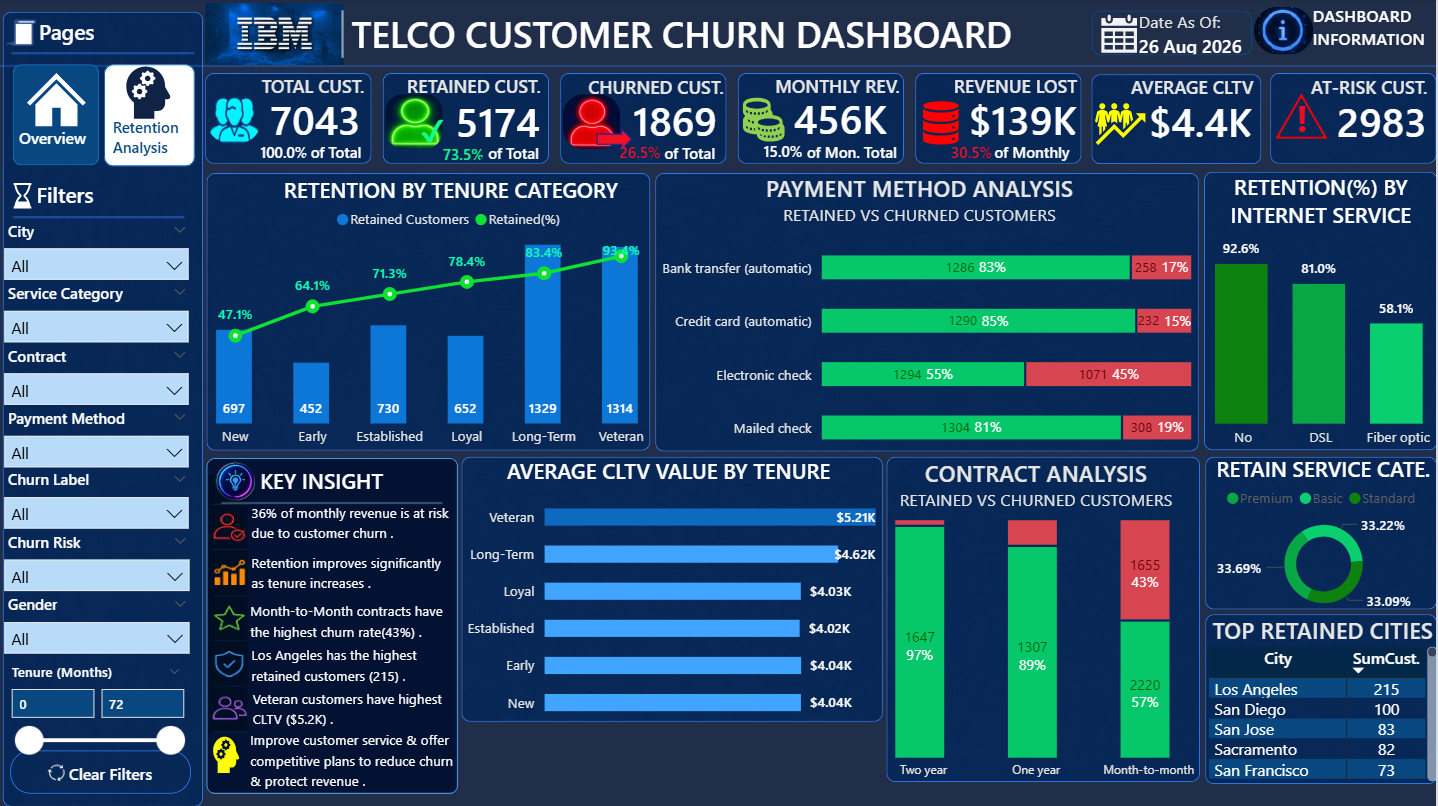

The page's visual inventory and layout, read from the dashboard file:
{"tool":"powerbi","page":{"name":"Retention Analysis","canvas":[1280,720],"ordinal":1},"visuals":[{"type":"image","box":[1117.6,8.2,53,42.3],"z":0,"group":"g16"},{"type":"cardVisual","fields":{"Data":["_Measures.Date As Of"]},"box":[972.9,11.5,143.5,40.9],"z":0,"group":"g1"},{"type":"image","box":[3,12,178,708],"z":0},{"type":"shape","box":[12,59,77,90],"z":0,"group":"g17"},{"type":"slicer","fields":{"Values":["dim_service.Service_Category"]},"box":[0,253.5,174,60],"z":0,"group":"g3"},{"type":"image","box":[1074,549,206,151],"z":0,"group":"g12"},{"type":"image","box":[974.7,8.2,45,48.2],"z":1000,"group":"g1"},{"type":"image","box":[1132,67,148,81],"z":1000},{"type":"textbox","box":[18,115,75,24],"z":1000,"group":"g17"},{"type":"slicer","fields":{"Values":["dim_location.City"]},"box":[0,198,174,60],"z":1000,"group":"g3"},{"type":"textbox","box":[232.7,417.5,111.3,26.7],"z":1000,"group":"g18"},{"type":"shape","box":[93,59,81,91],"z":2000,"group":"g17"},{"type":"image","box":[816,67,148,81],"z":2000},{"type":"slicer","fields":{"Values":["dim_contract.Contract"]},"box":[0,309,174,60],"z":2000,"group":"g3"},{"type":"shape","box":[198.2,440.8,197,17.8],"z":2500,"group":"g18"},{"type":"group","id":"g1","title":"Group 4","box":[972.9,8.2,143.5,48.2],"z":3000},{"type":"image","box":[184.7,156.2,395,247.5],"z":3000,"group":"g9"},{"type":"image","box":[412,409,375,236],"z":3000,"group":"g10"},{"type":"image","box":[1074,409,206,136],"z":3500,"group":"g2"},{"type":"image","box":[190.4,413,40.1,34.5],"z":3500,"group":"g18"},{"type":"image","box":[658,67,148,81],"z":4000},{"type":"textbox","box":[101,105,67,41],"z":4000,"group":"g17"},{"type":"slicer","fields":{"Values":["dim_churn.Churn_Risk"]},"box":[0,475.5,174.4,60],"z":4000,"group":"g3"},{"type":"image","box":[584.5,156.2,484.2,247.8],"z":5000,"group":"g13"},{"type":"image","box":[790,409,279,289.9],"z":5000,"group":"g14"},{"type":"group","id":"g2","title":"Group 20","box":[1074,409,206,136],"z":5000},{"type":"slicer","fields":{"Values":["dim_customer.Gender"]},"box":[0,531,174.4,60],"z":5000,"group":"g3"},{"type":"shape","box":[0,55,1280,12],"z":6000},{"type":"lineClusteredColumnComboChart","title":"RETENTION BY TENURE CATEGORY","fields":{"Category":["fact_customer_churn.Cust_Tenure_Group"],"Y2":["_Measures.Retained %"],"Y":["_Measures.Total Retained Customers"]},"box":[166,155,473,249],"z":6000,"group":"g9"},{"type":"slicer","fields":{"Values":["dim_contract.Payment_Method"]},"box":[0,364.5,174,60],"z":6000,"group":"g3"},{"type":"textbox","box":[314,10,599,62],"z":7000},{"type":"image","box":[1072.9,155,207.9,248.4],"z":7000,"group":"g11"},{"type":"clusteredBarChart","title":"AVERAGE CLTV VALUE BY TENURE","fields":{"Category":["fact_customer_churn.Cust_Tenure_Group"],"Y":["_Measures.Avg CLTV"]},"box":[412,409,369,241],"z":7000,"group":"g10"},{"type":"image","box":[10,670,160.9,38],"z":7000,"group":"g4"},{"type":"image","box":[184,4,123,55],"z":8000},{"type":"image","box":[184,67,148,81],"z":9000},{"type":"shape","box":[300,11,13,42],"z":10000},{"type":"hundredPercentStackedBarChart","title":"PAYMENT METHOD ANALYSIS","fields":{"Series":["dim_churn.Churn_Label"],"Category":["dim_contract.Payment_Method"],"Y":["_Measures.Total Customers"]},"box":[577.5,156.2,484.2,258.8],"z":10000,"group":"g13"},{"type":"hundredPercentStackedColumnChart","title":"CONTRACT ANALYSIS","fields":{"Category":["dim_contract.Contract"],"Series":["dim_churn.Churn_Label"],"Y":["_Measures.Total Customers"]},"box":[758,410.1,331,289.9],"z":10000,"group":"g14"},{"type":"pivotTable","title":"TOP RETAINED CITIES","fields":{"Rows":["dim_location.City"],"Values":["_Measures.Total Retained Customers"]},"box":[1077,549,203,149],"z":10000,"group":"g12"},{"type":"shape","box":[11.5,43.6,162.8,11.5],"z":11000},{"type":"pieChart","fields":{"Category":["dim_churn.Churn_Label"],"Y":["_Measures.Churn %"]},"box":[1121.1,13.4,42.4,40.8],"z":12000,"group":"g16"},{"type":"image","box":[21,59,60,63],"z":12000,"group":"g17"},{"type":"donutChart","title":"RETAIN SERVICE CATE.","fields":{"Category":["dim_service.Service_Category"],"Y":["_Measures.Total Retained Customers"]},"box":[1081,403,197,146],"z":12000},{"type":"textbox","box":[36,18,50,30],"z":13000},{"type":"image","box":[7,15,26,33],"z":14000},{"type":"image","box":[96,58,74,55],"z":15000,"group":"g17"},{"type":"shape","box":[12,189,153,12],"z":15000},{"type":"image","box":[3,162,35,27],"z":16000},{"type":"textbox","box":[33,162,57,30],"z":17000},{"type":"image","box":[184.6,87.2,48.7,43.6],"z":18000},{"type":"group","id":"g3","title":"Group 2","box":[0,198,174.4,393],"z":19000},{"type":"textbox","box":[1151,68,121,24],"z":20000},{"type":"group","id":"g4","title":"Group 3","box":[8.9,670,161.2,37.3],"z":21000},{"type":"textbox","box":[838,67,122,23],"z":22000},{"type":"textbox","box":[669,67,133,22],"z":23000},{"type":"textbox","box":[230,67,95,23],"z":24000},{"type":"image","box":[342,67,148,81],"z":25000},{"type":"actionButton","box":[8.9,670,158.8,36.1],"z":25009,"group":"g4"},{"type":"image","box":[500,67,148,81],"z":26000},{"type":"image","box":[811.7,86.9,54.7,48.9],"z":27000},{"type":"image","box":[659,82.1,42,52],"z":28000},{"type":"image","box":[973.7,67.5,151,80],"z":29000,"group":"g15"},{"type":"group","id":"g5","title":"Group 8","box":[1135.8,83.9,48.9,79.6],"z":29000},{"type":"textbox","box":[996,68,122,27],"z":30000,"group":"g15"},{"type":"group","id":"g6","title":"Group 9","box":[344.4,85.3,63.4,59.6],"z":30000},{"type":"group","id":"g7","title":"Group 10","box":[501.5,85.8,61.3,49.3],"z":31000},{"type":"textbox","box":[352,66.7,130.7,22.7],"z":32000},{"type":"textbox","box":[523,67.8,122,22],"z":33000},{"type":"image","box":[973.3,85.6,51.1,51.1],"z":33000,"group":"g15"},{"type":"cardVisual","fields":{"Data":["_Measures.Total Customers"]},"box":[239.4,89.1,85.4,35.8],"z":34000},{"type":"cardVisual","fields":{"Data":["_Measures.Total Churn Customers"]},"box":[534.6,89,105.1,35.9],"z":35000},{"type":"cardVisual","fields":{"Data":["_Measures.Total Active Customers"]},"box":[367.8,89,114.5,36.2],"z":36000},{"type":"cardVisual","fields":{"Data":["_Measures.Churn Revenue Loss"]},"box":[857,88,103.9,36.1],"z":37000},{"type":"cardVisual","fields":{"Data":["_Measures.At-Risk Cust."]},"box":[1184.7,89,87.6,36.5],"z":38000},{"type":"cardVisual","fields":{"Data":["_Measures.Monthly Charges"]},"box":[697,88.5,105.1,35.9],"z":39000},{"type":"cardVisual","fields":{"Data":["_Measures.% of Total"]},"box":[223,126.5,52.5,18.9],"z":40000},{"type":"cardVisual","fields":{"Data":["_Measures.Churn %"]},"box":[533,127.3,56.7,19.7],"z":41000},{"type":"cardVisual","fields":{"Data":["_Measures.Active %"]},"box":[381,128.2,51.7,18.5],"z":42000},{"type":"cardVisual","fields":{"Data":["_Measures.Avg CLTV"]},"box":[1006.6,88.9,110,36.7],"z":43000,"group":"g15"},{"type":"cardVisual","fields":{"Data":["_Measures.% Churn Revenue Loss"]},"box":[830,126.9,54.2,19.3],"z":43000},{"type":"image","box":[501.5,85.8,50.8,49.2],"z":44000,"group":"g7"},{"type":"textbox","box":[273.5,126.9,54.2,18.1],"z":44000},{"type":"image","box":[344.4,85.3,50.8,49.2],"z":45000,"group":"g6"},{"type":"textbox","box":[589,128,56.3,21],"z":45000},{"type":"textbox","box":[375.8,98.2,32,46.7],"z":45500,"group":"g6"},{"type":"textbox","box":[432.4,128.6,53.8,18.1],"z":46000},{"type":"textbox","box":[1145.5,85.2,30.2,78.4],"z":47000,"group":"g5"},{"type":"textbox","box":[883.2,127.3,77.7,21],"z":47000},{"type":"group","id":"g8","title":"Group 5","box":[8,56,169,97],"z":48000},{"type":"slicer","fields":{"Values":["dim_churn.Churn_Label"]},"box":[0,420,174,60],"z":49000},{"type":"slicer","fields":{"Values":["fact_customer_churn.Tenure_Months"]},"box":[3.3,592.2,165.6,85.6],"z":50000},{"type":"image","box":[1135.8,83.9,48.9,42.4],"z":51000,"group":"g5"},{"type":"group","id":"g9","title":"Group 18","box":[166,155,473.1,249.3],"z":51000},{"type":"shape","box":[531.4,115.6,32,20],"z":51002,"group":"g7"},{"type":"group","id":"g10","title":"Group 6","box":[412,409,375,240],"z":52000},{"type":"group","id":"g11","title":"Group 7","box":[1055,155,244,249],"z":53000},{"type":"group","id":"g12","title":"Group 24","box":[1074,549,206,151],"z":54000},{"type":"group","id":"g13","title":"Group 11","box":[577.5,156.2,490,258.8],"z":55000},{"type":"group","id":"g14","title":"Group 11","box":[758,409,331,291],"z":56000},{"type":"group","id":"g15","title":"Group 12","box":[973.3,67.5,151.4,80],"z":57000},{"type":"group","id":"g16","title":"Group 26","box":[1117.6,8.2,52.9,45.9],"z":59000},{"type":"textbox","box":[1169.4,5.9,110.6,47.1],"z":60000},{"type":"group","id":"g17","title":"Group 1","box":[12,58,162,92],"z":60001,"group":"g8"},{"type":"shape","box":[185,410,224,298.9],"z":61000},{"type":"pageNavigator","box":[8,56,169,97],"z":61001,"group":"g8"},{"type":"clusteredColumnChart","title":"RETENTION(%) BY INTERNET SERVICE","fields":{"Category":["dim_service.Internet_Service"],"Y":["_Measures.Retained %"]},"box":[1055,156,243.7,248.2],"z":61002,"group":"g11"},{"type":"textbox","box":[715.6,126.7,123.3,21.1],"z":62000},{"type":"cardVisual","fields":{"Data":["_Measures.% Monthly Total"]},"box":[663.3,118,52.2,35.6],"z":63000},{"type":"textbox","box":[1356,32.5,150,150],"z":64000},{"type":"textbox","box":[224.4,492.2,182.2,38.9],"z":65000},{"type":"image","box":[185.6,655.6,33,38],"z":66000},{"type":"textbox","box":[223.3,535.6,184.4,38.9],"z":67000},{"type":"textbox","box":[1601.1,53.3,182.2,38.9],"z":68000},{"type":"textbox","box":[224.4,447.8,182.2,51.1],"z":69000},{"type":"textbox","box":[1621.1,73.3,182.2,38.9],"z":70000},{"type":"textbox","box":[225.6,613,182.2,38.9],"z":71000},{"type":"image","box":[177.8,425.6,52.2,228.9],"z":72000},{"type":"group","id":"g18","title":"Group 13","box":[190.4,413,204.8,45.6],"z":73000},{"type":"textbox","box":[224.4,574.4,183.3,38.9],"z":74000},{"type":"textbox","box":[223.3,650,182.2,58.9],"z":75000}]}

Visuals, with their boxes on the page's 1280x720 design canvas (x1, y1, x2, y2). These are canvas units, not pixel positions in the 1438x806 screenshot, which may show the page scaled, cropped or inside an application window:
image: [x1=1118, y1=8, x2=1171, y2=50]
cardVisual - _Measures.Date As Of: [x1=973, y1=12, x2=1116, y2=52]
image: [x1=3, y1=12, x2=181, y2=720]
shape: [x1=12, y1=59, x2=89, y2=149]
slicer - dim_service.Service_Category: [x1=0, y1=254, x2=174, y2=314]
image: [x1=1074, y1=549, x2=1280, y2=700]
image: [x1=975, y1=8, x2=1020, y2=56]
image: [x1=1132, y1=67, x2=1280, y2=148]
textbox: [x1=18, y1=115, x2=93, y2=139]
slicer - dim_location.City: [x1=0, y1=198, x2=174, y2=258]
textbox: [x1=233, y1=418, x2=344, y2=444]
shape: [x1=93, y1=59, x2=174, y2=150]
image: [x1=816, y1=67, x2=964, y2=148]
slicer - dim_contract.Contract: [x1=0, y1=309, x2=174, y2=369]
shape: [x1=198, y1=441, x2=395, y2=459]
"Group 4" group: [x1=973, y1=8, x2=1116, y2=56]
image: [x1=185, y1=156, x2=580, y2=404]
image: [x1=412, y1=409, x2=787, y2=645]
image: [x1=1074, y1=409, x2=1280, y2=545]
image: [x1=190, y1=413, x2=230, y2=448]
image: [x1=658, y1=67, x2=806, y2=148]
textbox: [x1=101, y1=105, x2=168, y2=146]
slicer - dim_churn.Churn_Risk: [x1=0, y1=476, x2=174, y2=536]
image: [x1=584, y1=156, x2=1069, y2=404]
image: [x1=790, y1=409, x2=1069, y2=699]
"Group 20" group: [x1=1074, y1=409, x2=1280, y2=545]
slicer - dim_customer.Gender: [x1=0, y1=531, x2=174, y2=591]
shape: [x1=0, y1=55, x2=1280, y2=67]
"RETENTION BY TENURE CATEGORY" lineClusteredColumnComboChart: [x1=166, y1=155, x2=639, y2=404]
slicer - dim_contract.Payment_Method: [x1=0, y1=364, x2=174, y2=424]
textbox: [x1=314, y1=10, x2=913, y2=72]
image: [x1=1073, y1=155, x2=1281, y2=403]
"AVERAGE CLTV VALUE BY TENURE" clusteredBarChart: [x1=412, y1=409, x2=781, y2=650]
image: [x1=10, y1=670, x2=171, y2=708]
image: [x1=184, y1=4, x2=307, y2=59]
image: [x1=184, y1=67, x2=332, y2=148]
shape: [x1=300, y1=11, x2=313, y2=53]
"PAYMENT METHOD ANALYSIS" hundredPercentStackedBarChart: [x1=578, y1=156, x2=1062, y2=415]
"CONTRACT ANALYSIS" hundredPercentStackedColumnChart: [x1=758, y1=410, x2=1089, y2=700]
"TOP RETAINED CITIES" pivotTable: [x1=1077, y1=549, x2=1280, y2=698]
shape: [x1=12, y1=44, x2=174, y2=55]
pieChart - dim_churn.Churn_Label x _Measures.Churn %: [x1=1121, y1=13, x2=1164, y2=54]
image: [x1=21, y1=59, x2=81, y2=122]
"RETAIN SERVICE CATE." donutChart: [x1=1081, y1=403, x2=1278, y2=549]
textbox: [x1=36, y1=18, x2=86, y2=48]
image: [x1=7, y1=15, x2=33, y2=48]
image: [x1=96, y1=58, x2=170, y2=113]
shape: [x1=12, y1=189, x2=165, y2=201]
image: [x1=3, y1=162, x2=38, y2=189]
textbox: [x1=33, y1=162, x2=90, y2=192]
image: [x1=185, y1=87, x2=233, y2=131]
"Group 2" group: [x1=0, y1=198, x2=174, y2=591]
textbox: [x1=1151, y1=68, x2=1272, y2=92]
"Group 3" group: [x1=9, y1=670, x2=170, y2=707]
textbox: [x1=838, y1=67, x2=960, y2=90]
textbox: [x1=669, y1=67, x2=802, y2=89]
textbox: [x1=230, y1=67, x2=325, y2=90]
image: [x1=342, y1=67, x2=490, y2=148]
actionButton: [x1=9, y1=670, x2=168, y2=706]
image: [x1=500, y1=67, x2=648, y2=148]
image: [x1=812, y1=87, x2=866, y2=136]
image: [x1=659, y1=82, x2=701, y2=134]
image: [x1=974, y1=68, x2=1125, y2=148]
"Group 8" group: [x1=1136, y1=84, x2=1185, y2=164]
textbox: [x1=996, y1=68, x2=1118, y2=95]
"Group 9" group: [x1=344, y1=85, x2=408, y2=145]
"Group 10" group: [x1=502, y1=86, x2=563, y2=135]
textbox: [x1=352, y1=67, x2=483, y2=89]
textbox: [x1=523, y1=68, x2=645, y2=90]
image: [x1=973, y1=86, x2=1024, y2=137]
cardVisual - _Measures.Total Customers: [x1=239, y1=89, x2=325, y2=125]
cardVisual - _Measures.Total Churn Customers: [x1=535, y1=89, x2=640, y2=125]
cardVisual - _Measures.Total Active Customers: [x1=368, y1=89, x2=482, y2=125]
cardVisual - _Measures.Churn Revenue Loss: [x1=857, y1=88, x2=961, y2=124]
cardVisual - _Measures.At-Risk Cust.: [x1=1185, y1=89, x2=1272, y2=126]
cardVisual - _Measures.Monthly Charges: [x1=697, y1=88, x2=802, y2=124]
cardVisual - _Measures.% of Total: [x1=223, y1=126, x2=276, y2=145]
cardVisual - _Measures.Churn %: [x1=533, y1=127, x2=590, y2=147]
cardVisual - _Measures.Active %: [x1=381, y1=128, x2=433, y2=147]
cardVisual - _Measures.Avg CLTV: [x1=1007, y1=89, x2=1117, y2=126]
cardVisual - _Measures.% Churn Revenue Loss: [x1=830, y1=127, x2=884, y2=146]
image: [x1=502, y1=86, x2=552, y2=135]
textbox: [x1=274, y1=127, x2=328, y2=145]
image: [x1=344, y1=85, x2=395, y2=134]
textbox: [x1=589, y1=128, x2=645, y2=149]
textbox: [x1=376, y1=98, x2=408, y2=145]
textbox: [x1=432, y1=129, x2=486, y2=147]
textbox: [x1=1146, y1=85, x2=1176, y2=164]
textbox: [x1=883, y1=127, x2=961, y2=148]
"Group 5" group: [x1=8, y1=56, x2=177, y2=153]
slicer - dim_churn.Churn_Label: [x1=0, y1=420, x2=174, y2=480]
slicer - fact_customer_churn.Tenure_Months: [x1=3, y1=592, x2=169, y2=678]
image: [x1=1136, y1=84, x2=1185, y2=126]
"Group 18" group: [x1=166, y1=155, x2=639, y2=404]
shape: [x1=531, y1=116, x2=563, y2=136]
"Group 6" group: [x1=412, y1=409, x2=787, y2=649]
"Group 7" group: [x1=1055, y1=155, x2=1299, y2=404]
"Group 24" group: [x1=1074, y1=549, x2=1280, y2=700]
"Group 11" group: [x1=578, y1=156, x2=1068, y2=415]
"Group 11" group: [x1=758, y1=409, x2=1089, y2=700]
"Group 12" group: [x1=973, y1=68, x2=1125, y2=148]
"Group 26" group: [x1=1118, y1=8, x2=1170, y2=54]
textbox: [x1=1169, y1=6, x2=1280, y2=53]
"Group 1" group: [x1=12, y1=58, x2=174, y2=150]
shape: [x1=185, y1=410, x2=409, y2=709]
pageNavigator: [x1=8, y1=56, x2=177, y2=153]
"RETENTION(%) BY INTERNET SERVICE" clusteredColumnChart: [x1=1055, y1=156, x2=1299, y2=404]
textbox: [x1=716, y1=127, x2=839, y2=148]
cardVisual - _Measures.% Monthly Total: [x1=663, y1=118, x2=716, y2=154]
textbox: [x1=1356, y1=32, x2=1506, y2=182]
textbox: [x1=224, y1=492, x2=407, y2=531]
image: [x1=186, y1=656, x2=219, y2=694]
textbox: [x1=223, y1=536, x2=408, y2=574]
textbox: [x1=1601, y1=53, x2=1783, y2=92]
textbox: [x1=224, y1=448, x2=407, y2=499]
textbox: [x1=1621, y1=73, x2=1803, y2=112]
textbox: [x1=226, y1=613, x2=408, y2=652]
image: [x1=178, y1=426, x2=230, y2=654]
"Group 13" group: [x1=190, y1=413, x2=395, y2=459]
textbox: [x1=224, y1=574, x2=408, y2=613]
textbox: [x1=223, y1=650, x2=406, y2=709]
